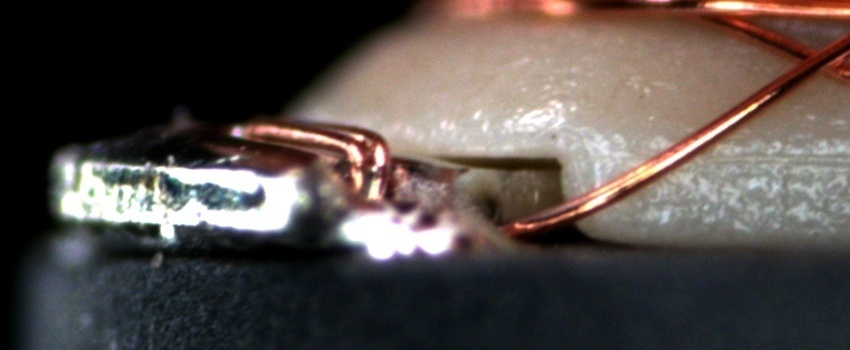CL: (784, 33, 845, 84)
DL: (726, 126, 849, 188)
TE: (221, 112, 397, 221)
